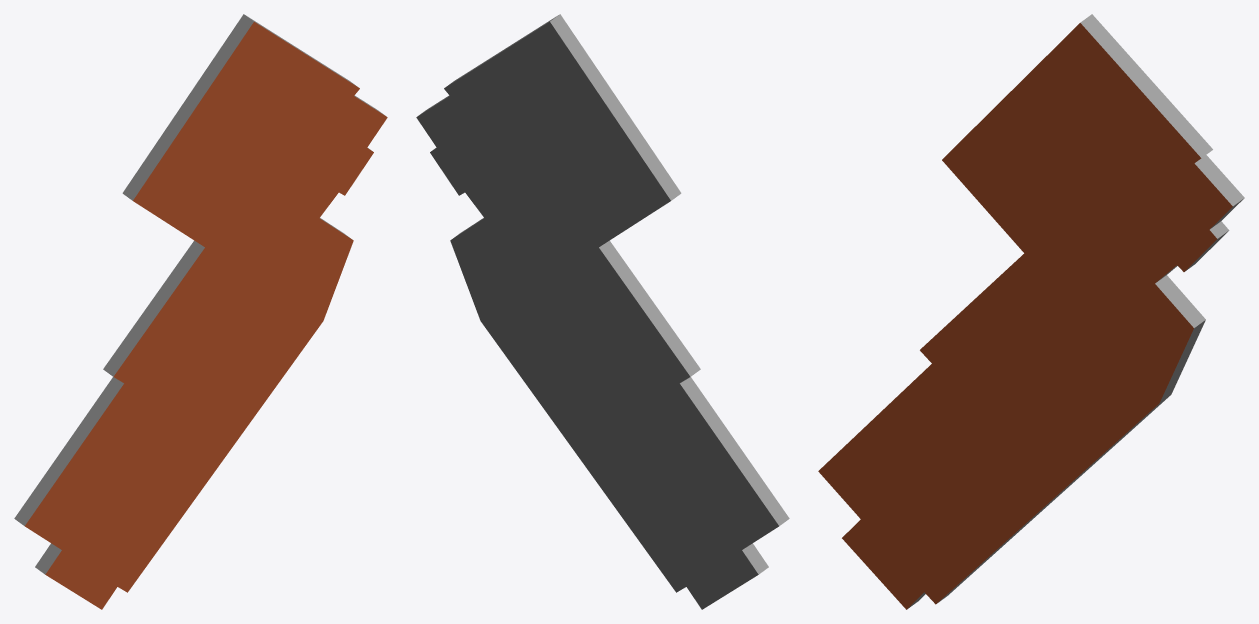
File: construction_0153_assumed_A_Grande_construcao_h6m.obj
3 renders of one model, left to right at view 1: azimuth 30°, elevation 25°; view 2: azimuth 150°, elevation 25°; view 3: azimuth 330°, elevation 25°, orthographic. The views are drawn at different scales.
Parts seen in each view (by area): view 1: construction_0153_assumed_A_Grande_construcao; view 2: construction_0153_assumed_A_Grande_construcao; view 3: construction_0153_assumed_A_Grande_construcao.
Boxes of the visible parts, box(x1,y1,x2,y2) form: construction_0153_assumed_A_Grande_construcao: box(14, 14, 387, 609); construction_0153_assumed_A_Grande_construcao: box(416, 14, 789, 609); construction_0153_assumed_A_Grande_construcao: box(818, 14, 1244, 609).
Bounding box in the file's own units: 121 × 175 × 6.
